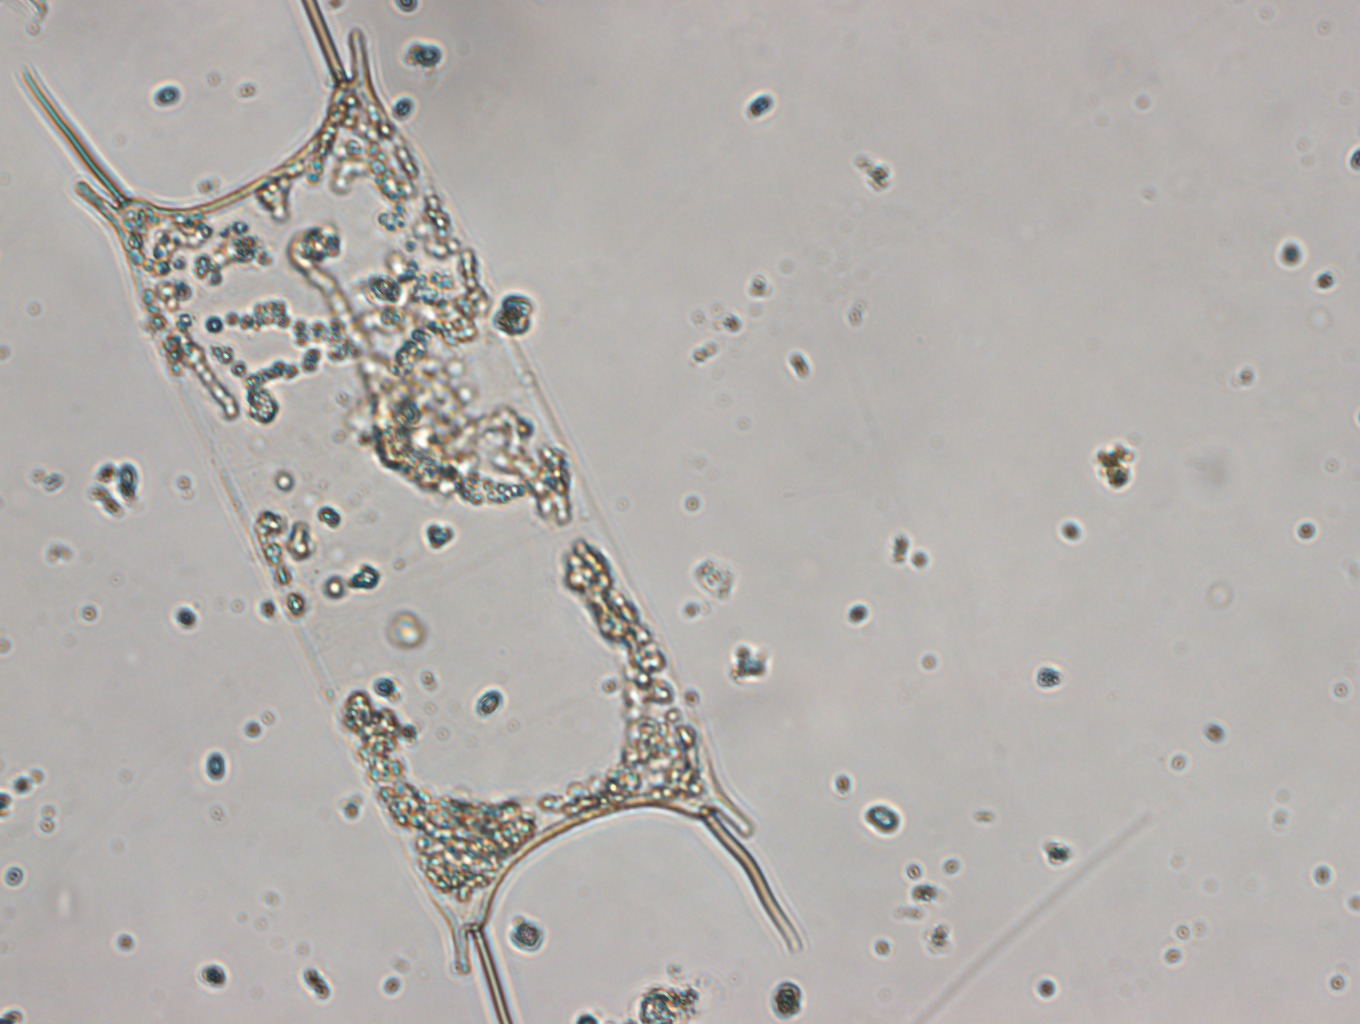biddulphia: (14, 1, 807, 1024)
